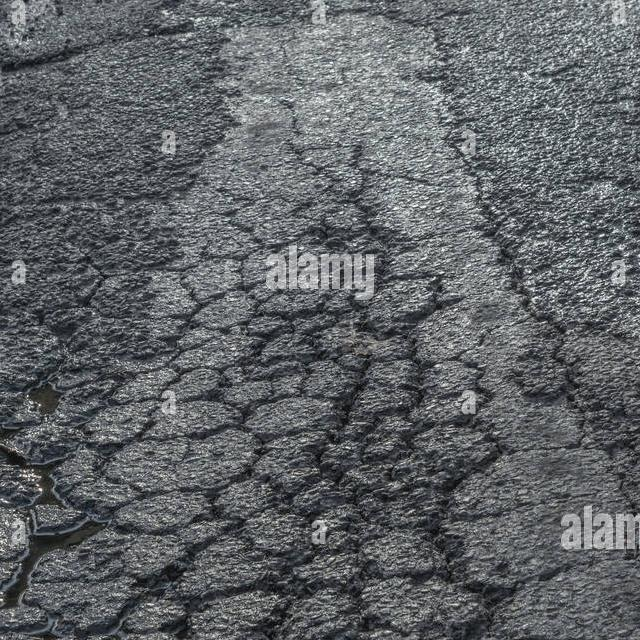retak_kulit_buaya: (0, 265, 507, 640)
